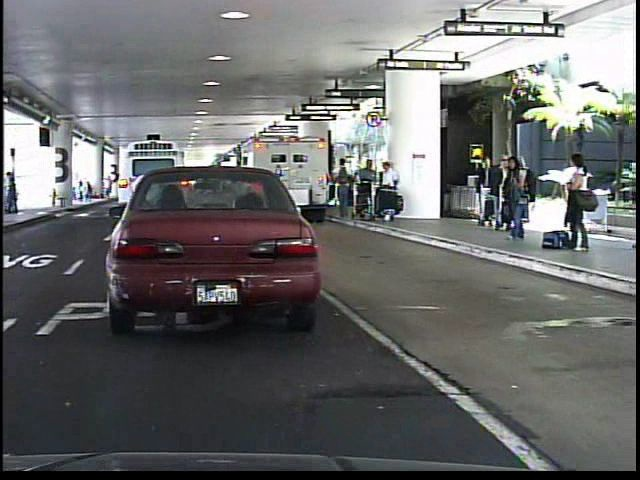person: (561, 148, 591, 257), (639, 154, 640, 250)
